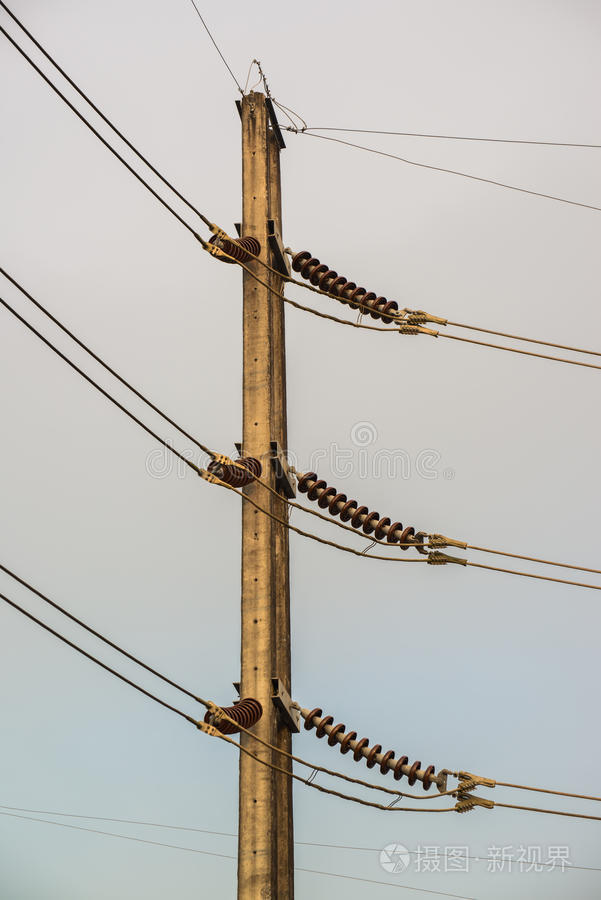insulator: (310, 705, 438, 791), (296, 471, 425, 548), (292, 251, 398, 321), (201, 697, 259, 733), (207, 231, 263, 266), (201, 457, 261, 487)
